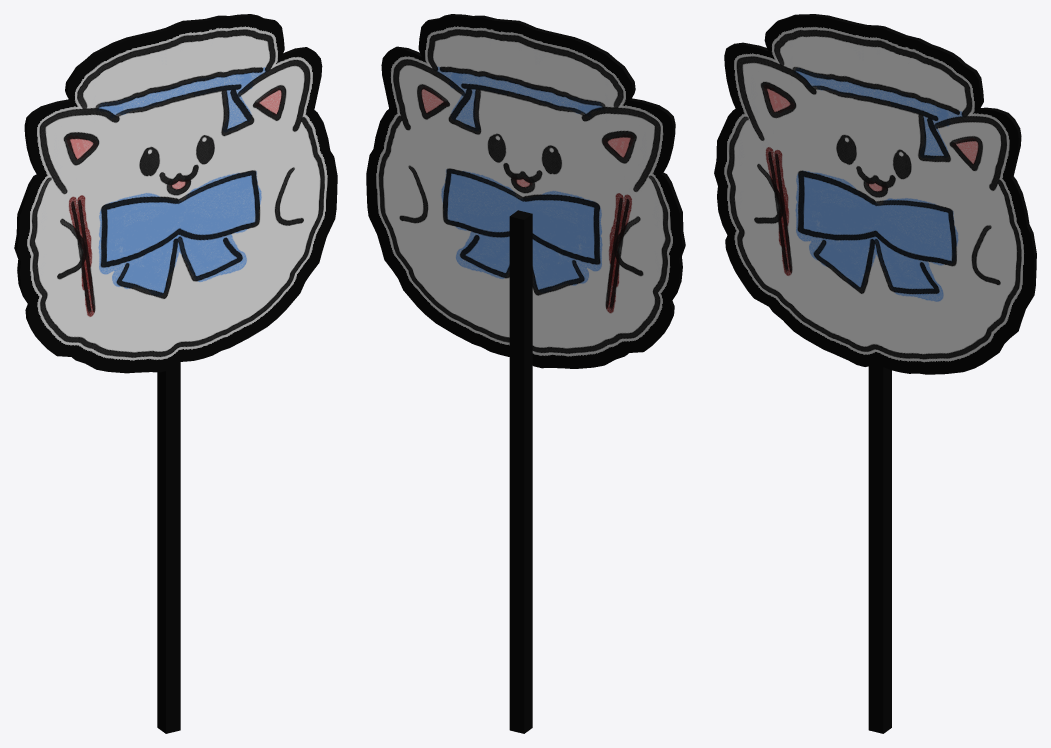
File: flatyukimin.glb
3 views of the same model, side by side, from view 1: azimuth 30°, elevation 25°; view 2: azimuth 150°, elevation 25°; view 3: azimuth 330°, elevation 25° (orthographic).
Visible parts, largest first — view 1: BOARD; view 2: BOARD; view 3: BOARD.
Boxes of the visible parts, x1,y1,x2,y2 form: BOARD: (14, 14, 337, 733); BOARD: (366, 14, 685, 733); BOARD: (714, 14, 1036, 733).
Size of the model in its own units: 0.3843 by 0.8119 by 0.0237.
Materials: 1 (1 with a texture image).
